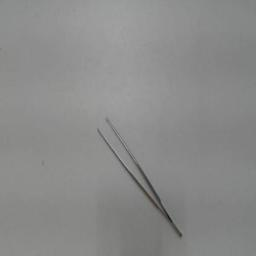Gillies Toothed Dissector: (96, 104, 188, 244)
